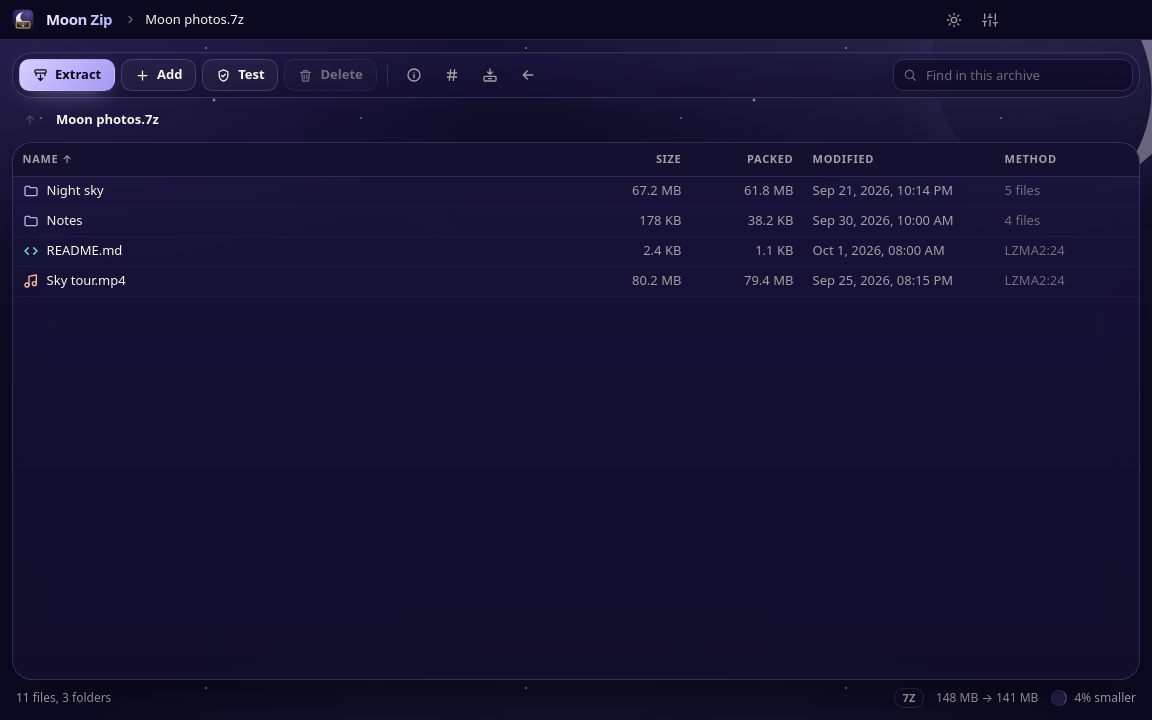
Test case: archive window › deletes after asking, and the list follows
The width and height of the screenshot is (1152, 720).
Click the text "Notes" at (65, 221), box [47,211,83,231]
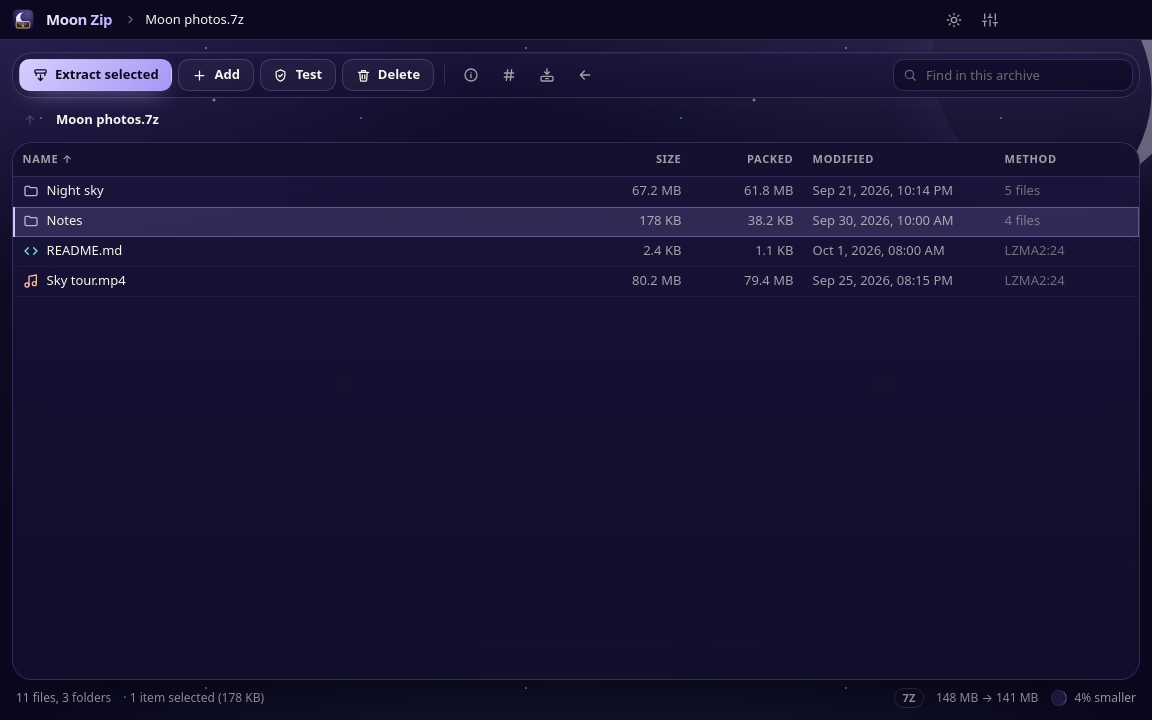
Press Delete in the table, box [13,143,1139,297]
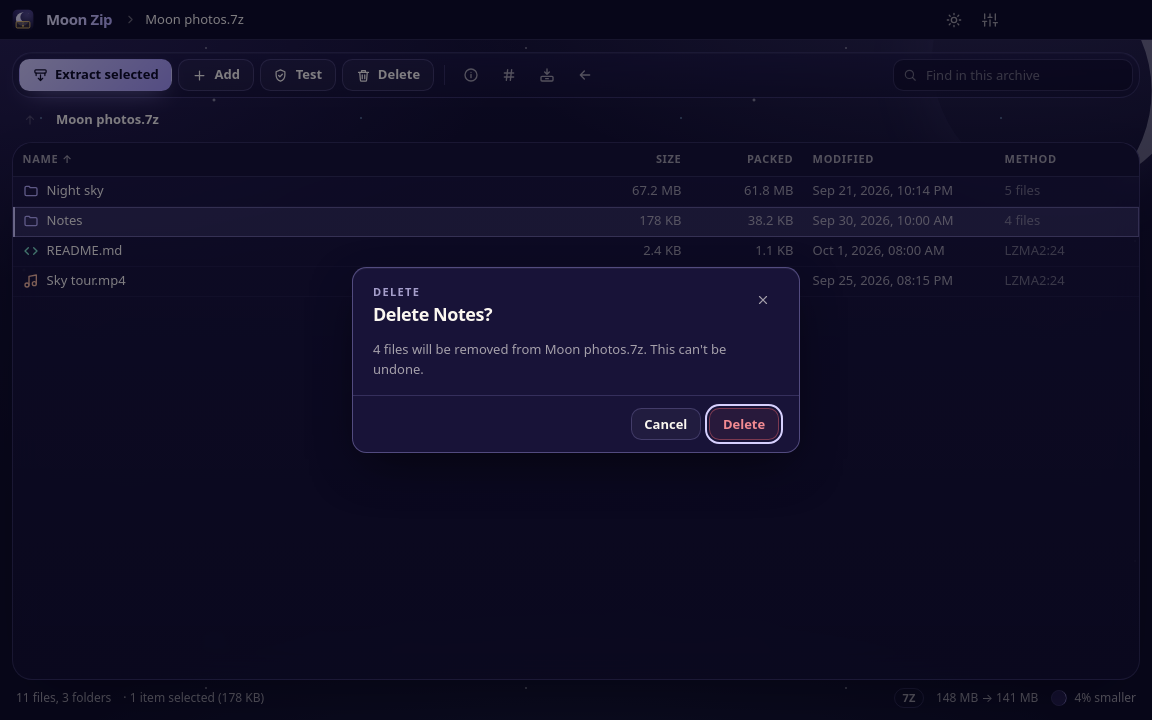
expect the dialog "Delete Notes?" shows "4 files will be removed": met, box [352,267,800,453]
Click the button "Delete" at (744, 424), box [709,408,779,440]
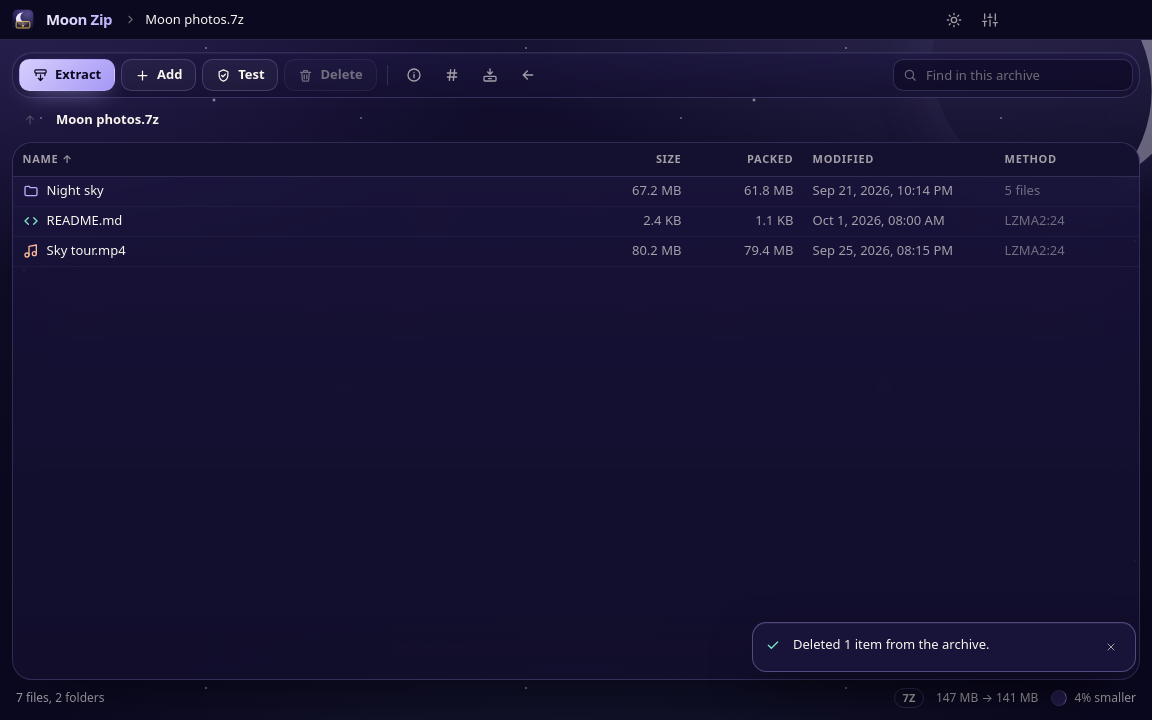
expect the text "Notes" is gone: met
